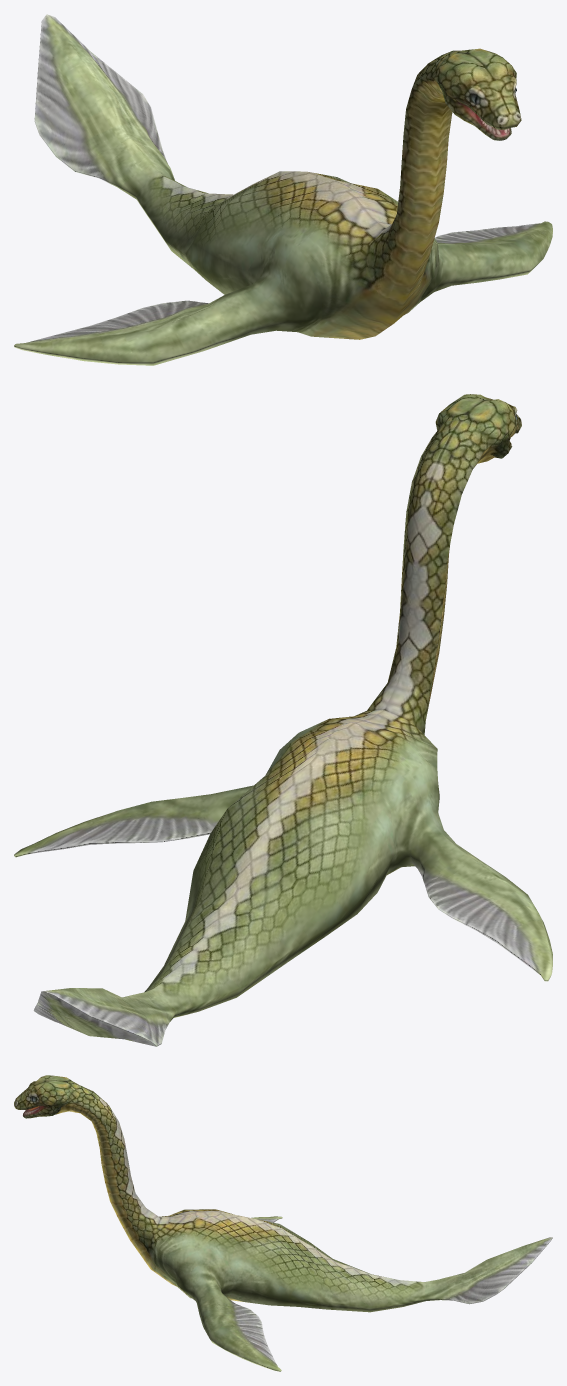
File: 208-scylla.glb
3 renders of one model, top to bottom at view 1: azimuth 30°, elevation 25°; view 2: azimuth 150°, elevation 25°; view 3: azimuth 270°, elevation 25°, orthographic. The views are drawn at different scales.
Bounding box in the file's own units: 8.26 × 5.93 × 12.47.
Materials: 1 (1 with a texture image).
